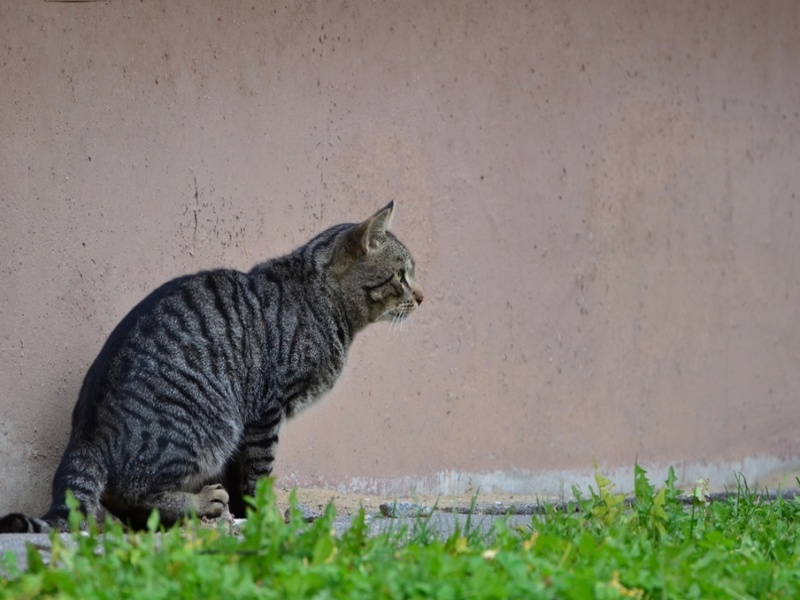cat: (1, 197, 425, 535)
